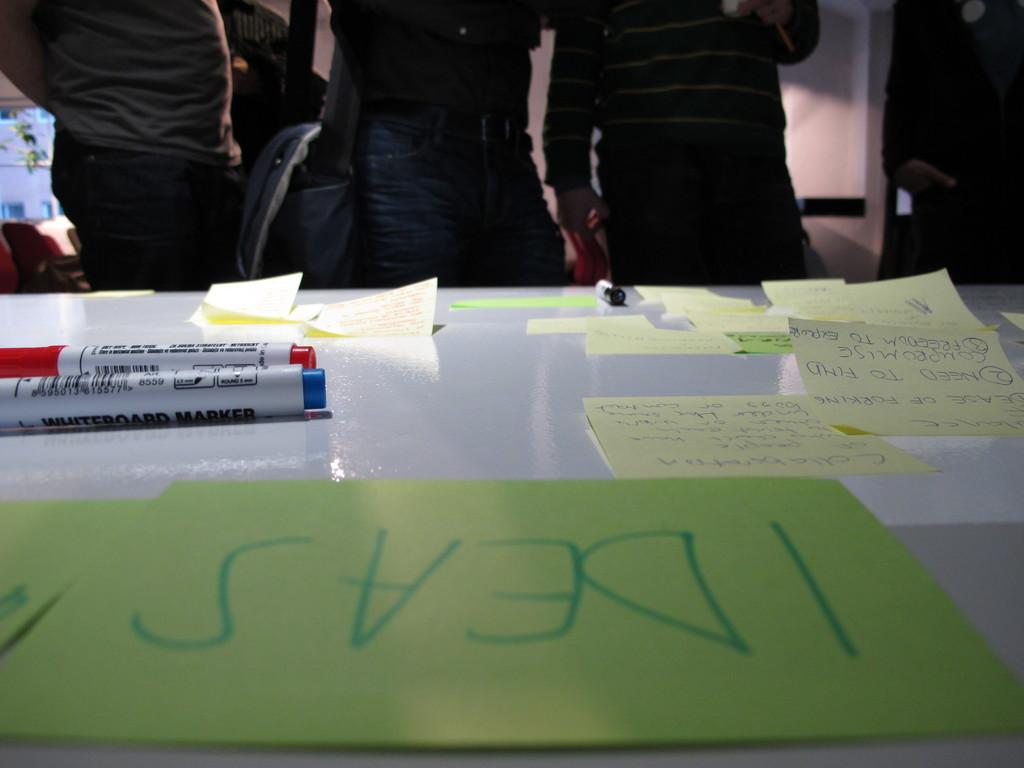pen: (0, 367, 328, 435), (0, 341, 318, 374), (593, 276, 627, 307)
